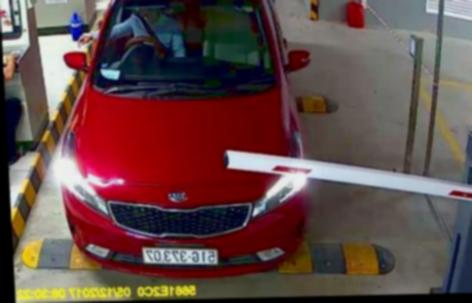License_Plate: (140, 236, 220, 269)
